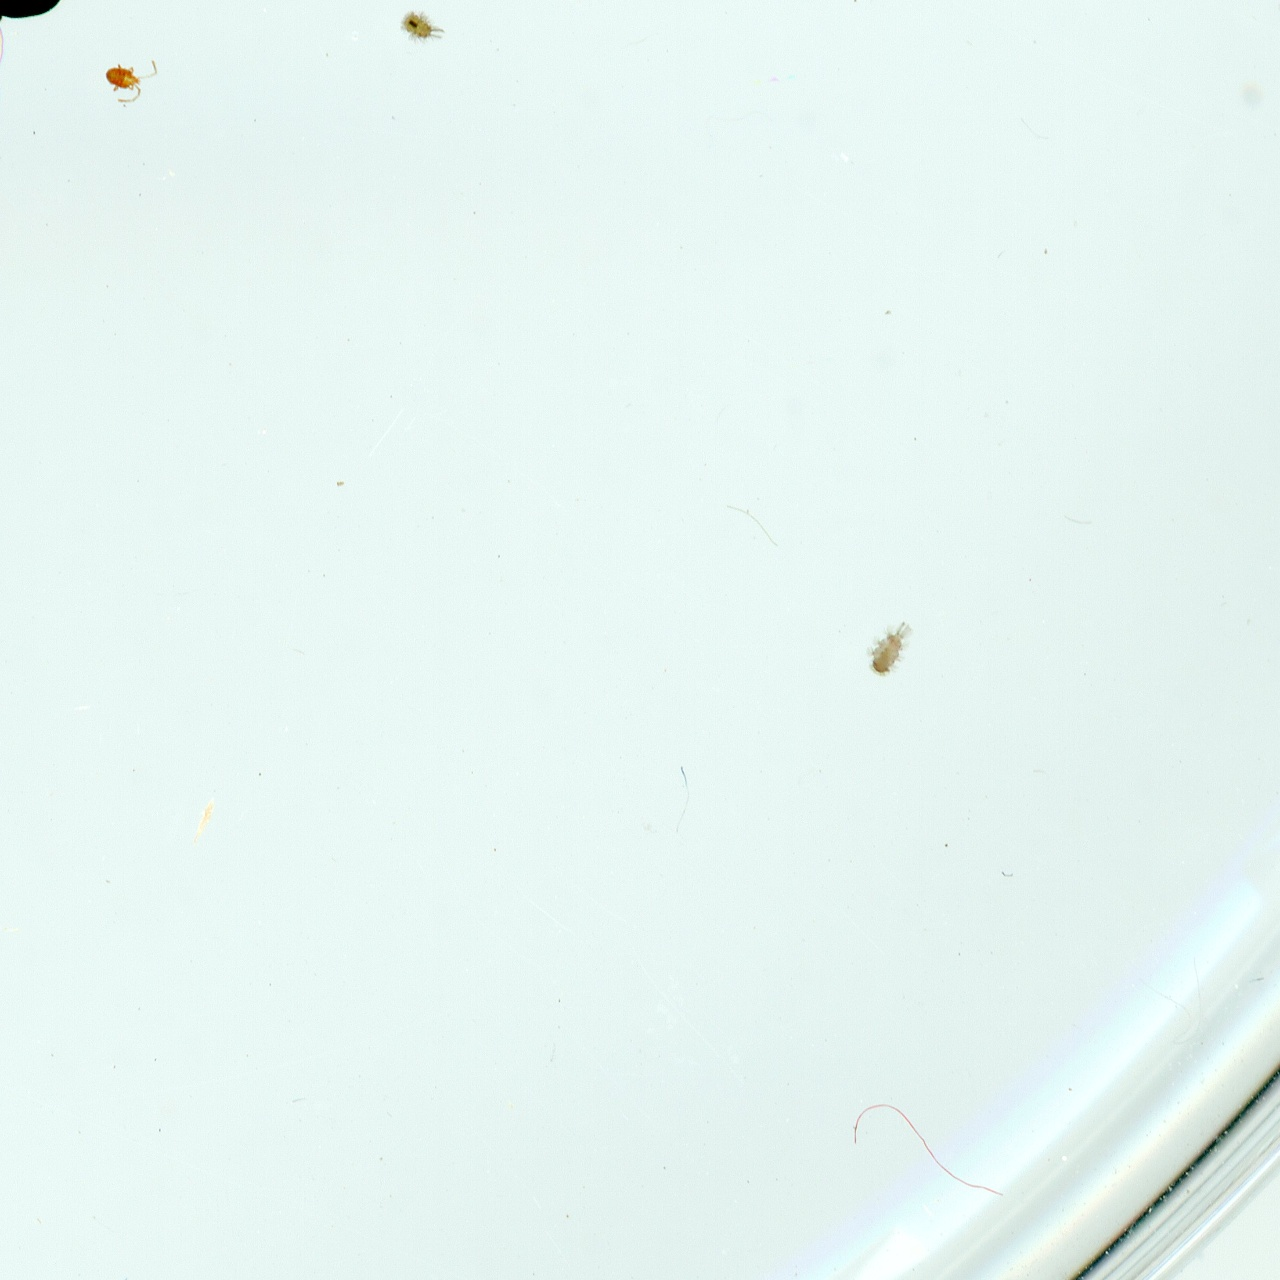arthropod: (103, 57, 161, 107), (870, 621, 913, 673), (399, 8, 445, 45)
